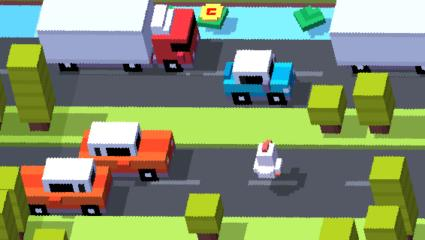hen: (252, 139, 282, 180)
obstacle: (36, 0, 200, 72), (328, 0, 425, 76), (79, 121, 176, 181), (18, 157, 113, 214), (223, 50, 297, 107), (6, 44, 54, 131), (370, 155, 419, 240), (352, 72, 396, 134), (307, 84, 348, 134), (0, 166, 28, 232), (185, 192, 223, 240), (365, 204, 409, 240), (0, 189, 22, 240), (318, 218, 359, 240), (32, 228, 71, 240), (0, 72, 4, 128)
timber: (198, 3, 230, 30), (295, 7, 326, 31)
